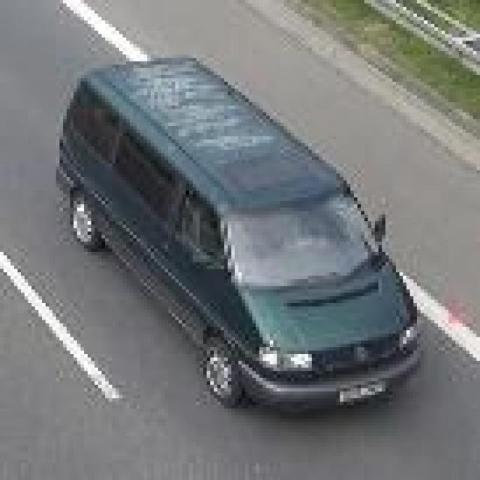van: (61, 59, 426, 410)
